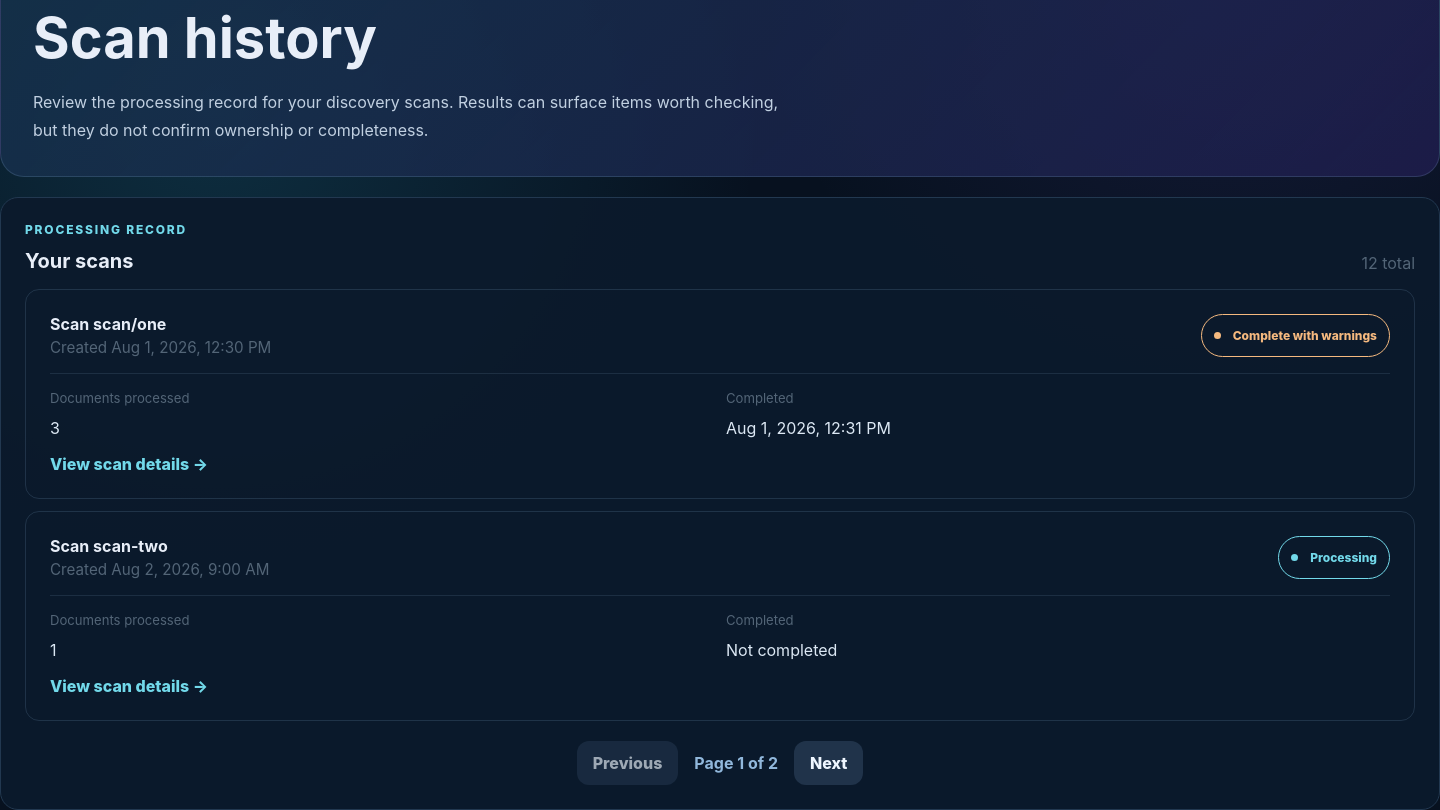
it: ScanHistoryPage › requests the next page and updates navigation controls
This screenshot has width=1440, height=810.
(page scrolled)
Click the button "Next". click: (829, 763)
box: top-left (794, 741), bottom-right (863, 785)
(page scrolled)
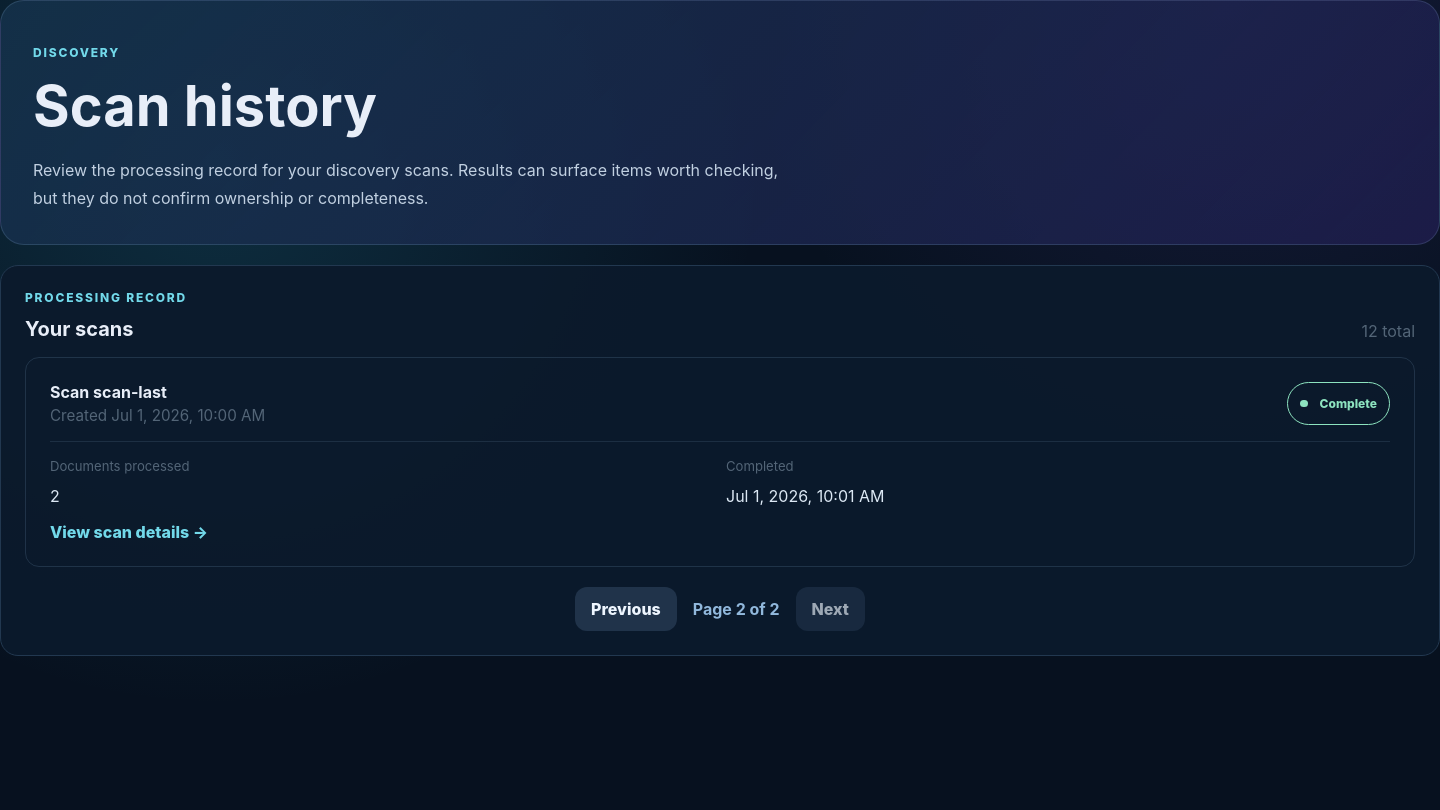
Expected: the text "Scan scan-last" is shown, top-left (50, 382), bottom-right (167, 402)
Expected: the text "Page 2 of 2" is shown, top-left (693, 599), bottom-right (780, 619)
Expected: the button "Next" is disabled, top-left (796, 587), bottom-right (865, 631)
